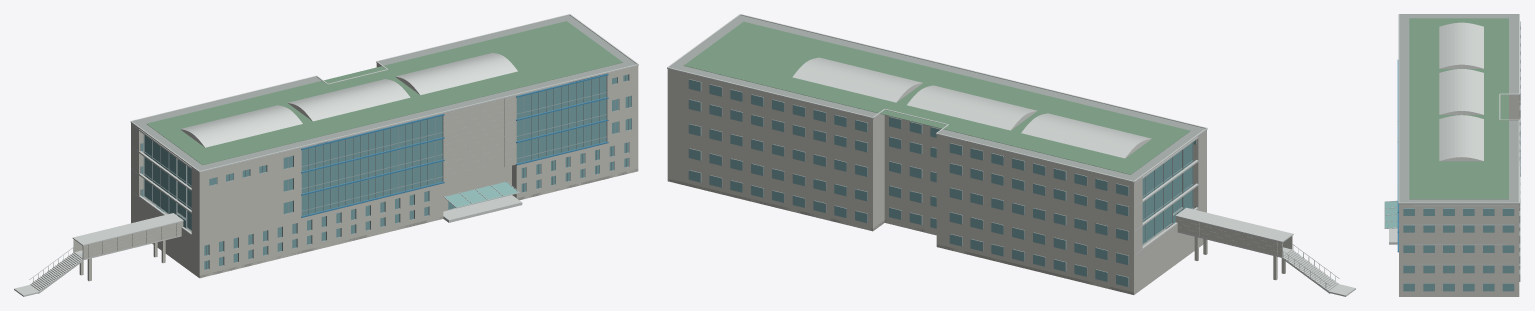
The picture shows the model from 3 angles, left to right: view 1: azimuth 30°, elevation 25°; view 2: azimuth 150°, elevation 25°; view 3: azimuth 270°, elevation 25°; orthographic projection. The views are drawn at different scales.
Visible parts, largest first — view 1: sanhak__greenRoofDeck, sanhak__largeBlueCurtainGlass, sanhak__shallowRoofLights, sanhak__lowPodium_-44.8715, sanhak__whitePanelZone_-44.8715, sanhak__roofSlab, sanhak__whitePanelZone_5.0, sanhak__frame, sanhak__lowPodium_20.0, sanhak__endRecessGlass, sanhak__roofCoping, sanhak__blueHorizontalFascia (+16 smaller); view 2: sanhak__greenRoofDeck, sanhak__estimatedRear_4, sanhak__estimatedRear_0, sanhak__shallowRoofLights, sanhak__roofSlab, sanhak__estimatedRear_4Glass, sanhak__estimatedRear_0Glass, sanhak__estimatedRear_2, sanhak__endRecessGlass, sanhak__roofCoping, sanhak__endPodium, sanhak__estimatedRear_0Frames (+12 smaller); view 3: sanhak__greenRoofDeck, sanhak__shallowRoofLights, sanhak__roofSlab, sanhak__estimatedRear_5, sanhak__endPodium, sanhak__estimatedRear_5Glass, sanhak__endPiers, sanhak__roofCoping, sanhak__estimatedRear_5Frames, sanhak__endTransverseBars, sanhak__white, sanhak__blueHorizontalFascia (+8 smaller).
Boxes of the visible parts, x1,y1,x2,y2 form: sanhak__greenRoofDeck: [146, 21, 622, 164]; sanhak__largeBlueCurtainGlass: [301, 76, 606, 215]; sanhak__shallowRoofLights: [180, 53, 517, 147]; sanhak__lowPodium_-44.8715: [199, 183, 443, 277]; sanhak__whitePanelZone_-44.8715: [199, 148, 301, 241]; sanhak__roofSlab: [133, 15, 636, 172]; sanhak__whitePanelZone_5.0: [443, 95, 516, 181]; sanhak__frame: [144, 75, 606, 230]; sanhak__lowPodium_20.0: [516, 135, 638, 198]; sanhak__endRecessGlass: [144, 73, 606, 230]; sanhak__roofCoping: [130, 14, 638, 172]; sanhak__blueHorizontalFascia: [301, 74, 608, 217]; sanhak__greenRoofDeck: [683, 21, 1190, 174]; sanhak__estimatedRear_4: [669, 69, 872, 230]; sanhak__estimatedRear_0: [936, 135, 1133, 292]; sanhak__shallowRoofLights: [792, 57, 1150, 158]; sanhak__roofSlab: [669, 15, 1204, 182]; sanhak__estimatedRear_4Glass: [689, 80, 867, 222]; sanhak__estimatedRear_0Glass: [950, 143, 1128, 286]; sanhak__estimatedRear_2: [884, 115, 941, 235]; sanhak__endRecessGlass: [1142, 142, 1192, 243]; sanhak__roofCoping: [667, 14, 1207, 182]; sanhak__endPodium: [667, 142, 1206, 294]; sanhak__estimatedRear_0Frames: [949, 143, 1128, 286]; sanhak__greenRoofDeck: [1409, 18, 1508, 199]; sanhak__shallowRoofLights: [1439, 22, 1483, 160]; sanhak__roofSlab: [1399, 15, 1518, 204]; sanhak__estimatedRear_5: [1399, 204, 1505, 265]; sanhak__endPodium: [1399, 264, 1519, 296]; sanhak__estimatedRear_5Glass: [1403, 208, 1513, 291]; sanhak__endPiers: [1399, 204, 1519, 264]; sanhak__roofCoping: [1398, 14, 1519, 203]; sanhak__estimatedRear_5Frames: [1403, 208, 1514, 290]; sanhak__endTransverseBars: [1399, 204, 1519, 264]; sanhak__white: [1439, 64, 1483, 161]; sanhak__blueHorizontalFascia: [1397, 60, 1398, 252].
Bounding box in the file's own units: 122 × 21.78 × 27.43.
Materials: 14 (1 with a texture image).
